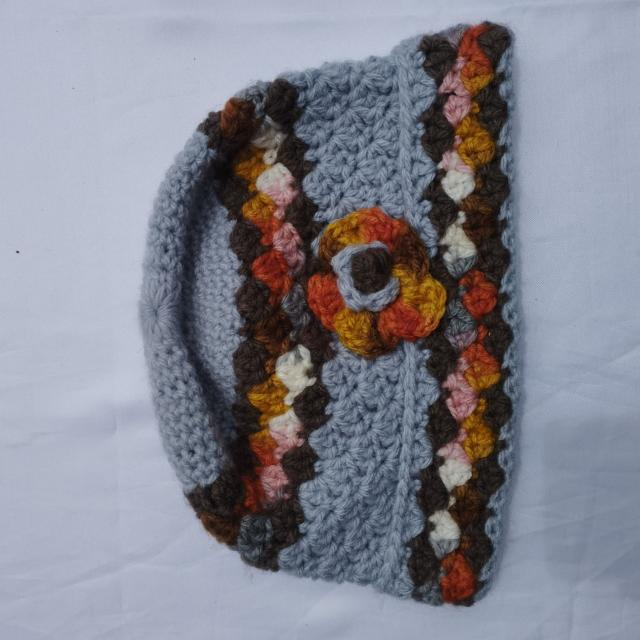Gorro: (138, 20, 521, 608)
